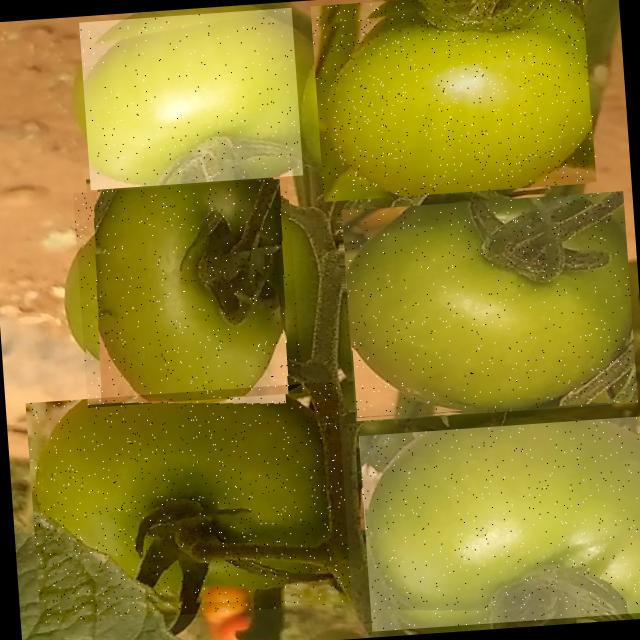Unripe Tomato: (25, 381, 352, 624), (337, 191, 637, 422), (358, 415, 640, 631), (309, 0, 596, 201), (73, 178, 302, 407), (79, 8, 302, 190)
